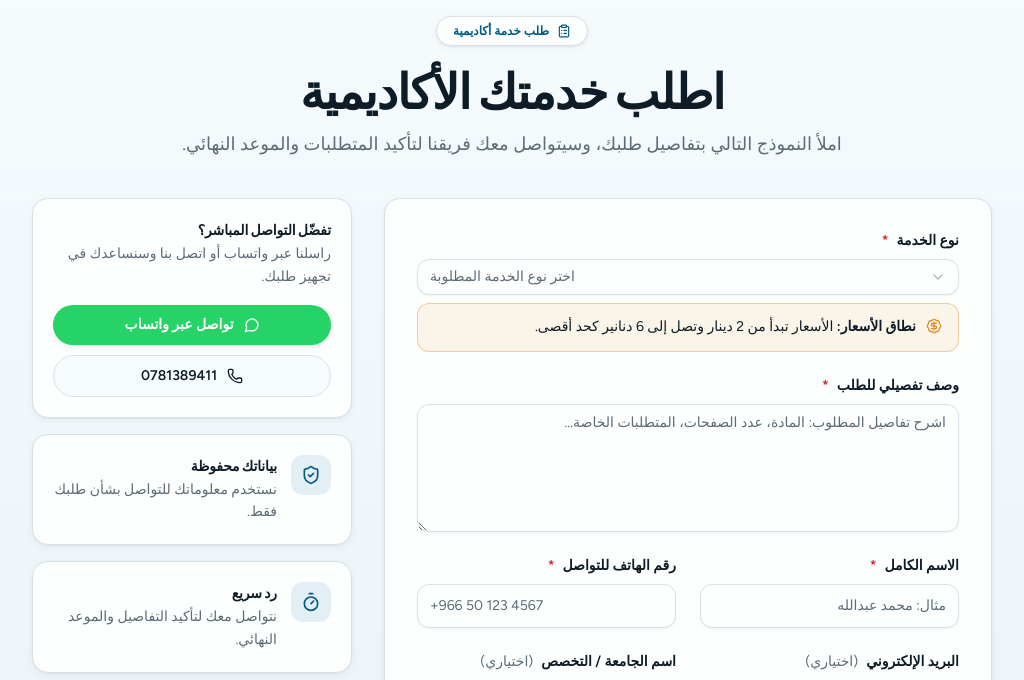
Test: RequestPage › shows the confirmation with the reference number after a successful submission
The width and height of the screenshot is (1024, 680).
Click the dropdown with test id "request.service_type.select" at [502, 276], box [417,259,959,295]
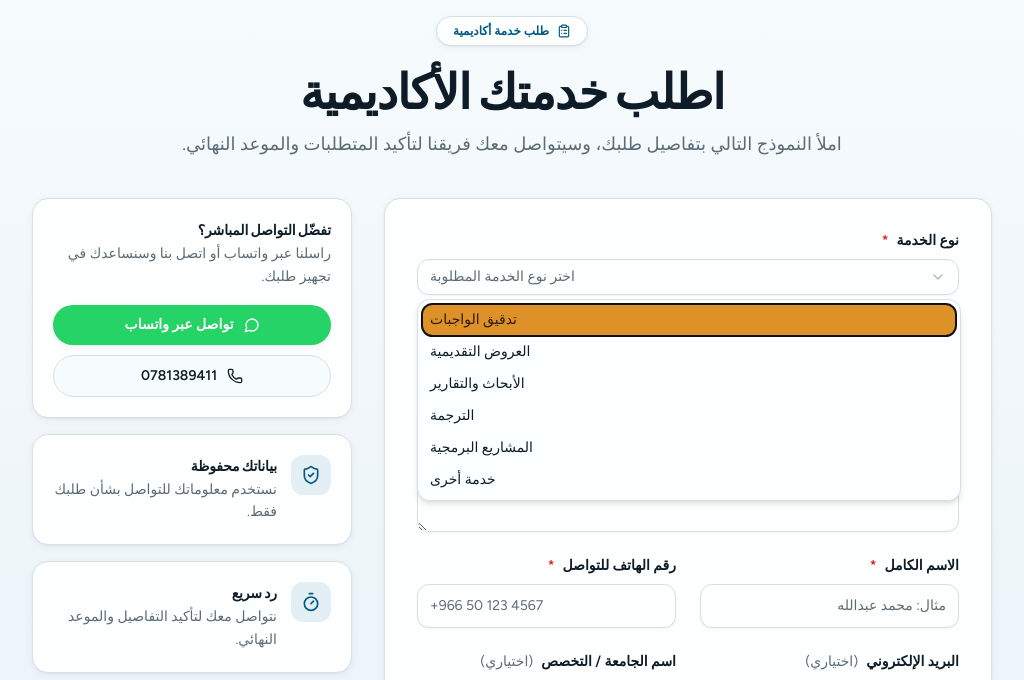
Click the option "تدقيق الواجبات" at [473, 320], box [422,304,956,336]
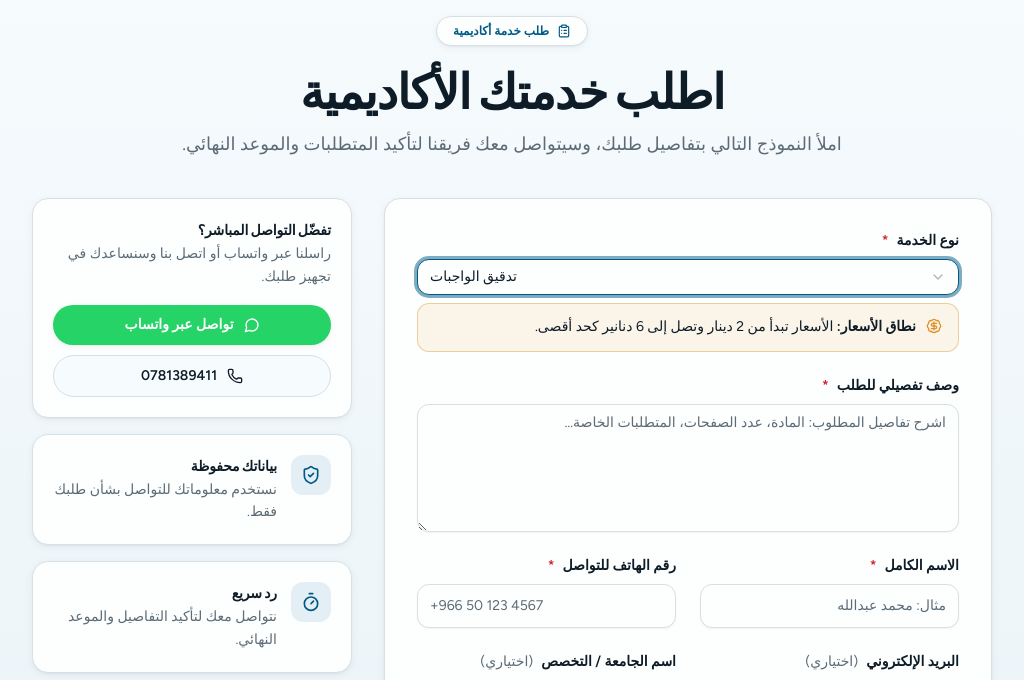
Type "حل واجب الرياضيات الفصل الأول" into the text box with test id "request.description.textarea" at [688, 468], box [417,404,959,532]
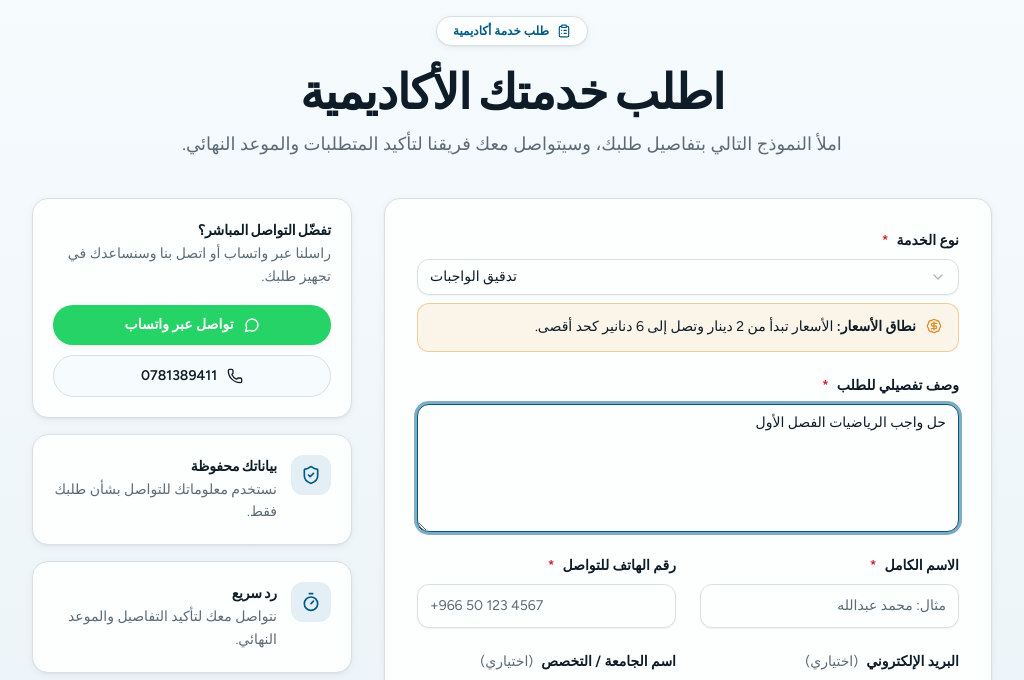
Type "محمد عبدالله" into the field with test id "request.full_name.input" at [830, 606], box [700,584,959,628]
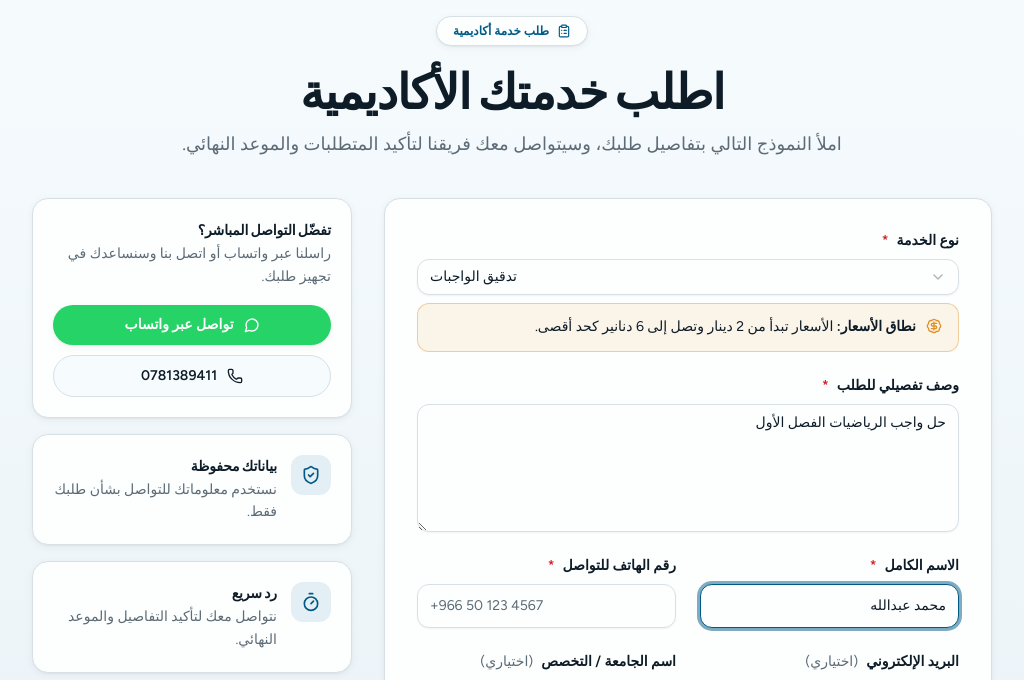
Type "0501234567" into the field with test id "request.phone.input" at [546, 606], box [417,584,676,628]
(page scrolled)
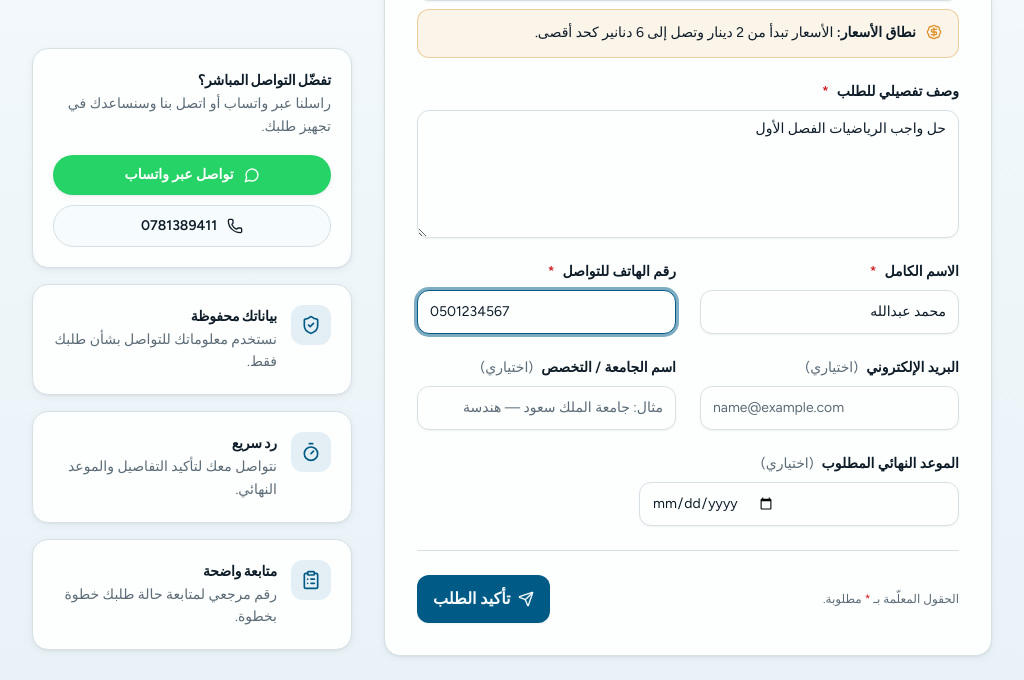
Click the button with test id "request.submit_button" at [484, 599], box [417,575,550,623]
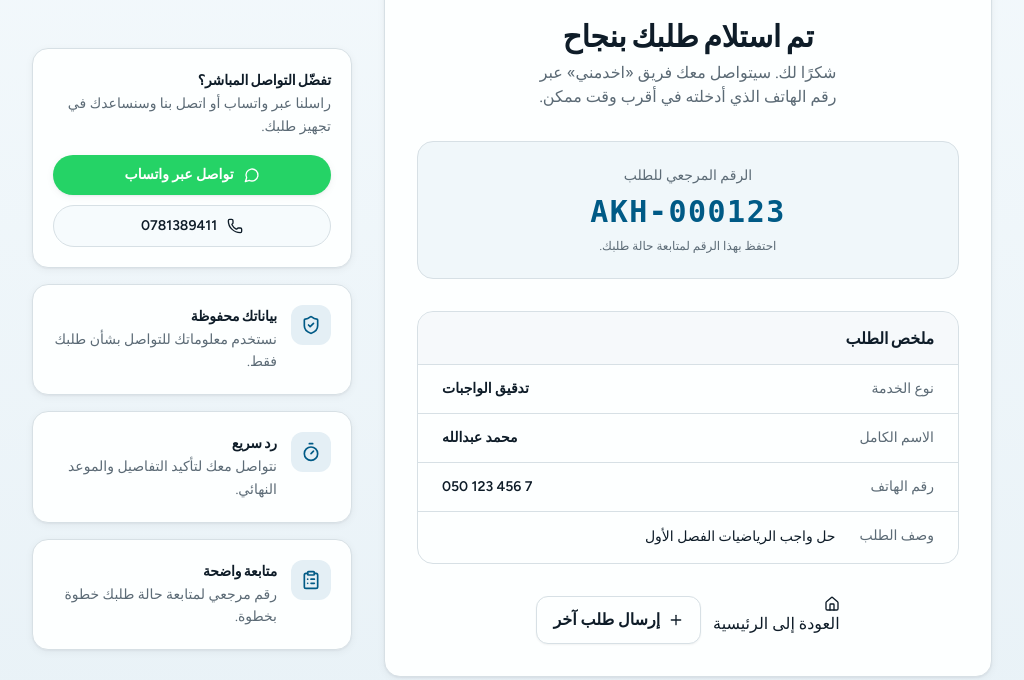
Result: the text with test id "request.confirmation.reference" reads "AKH-000123" at [590,194,786,229]
